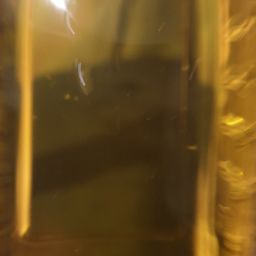Oil: (12, 3, 223, 254)
